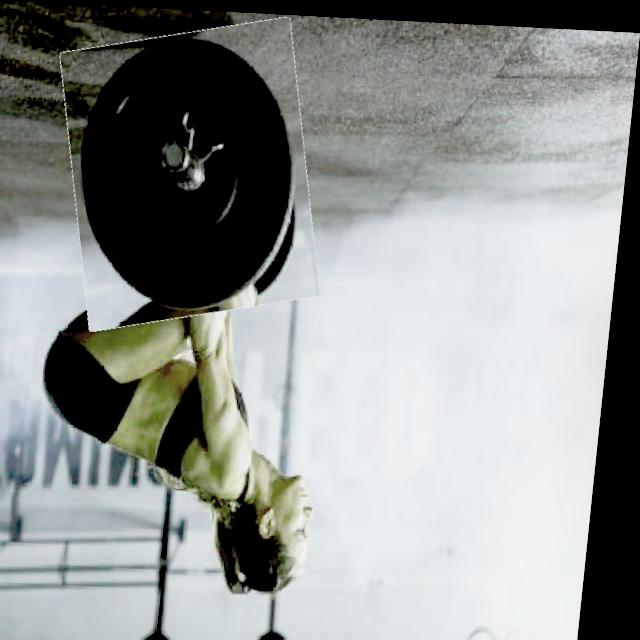barbell: (54, 16, 335, 329)
